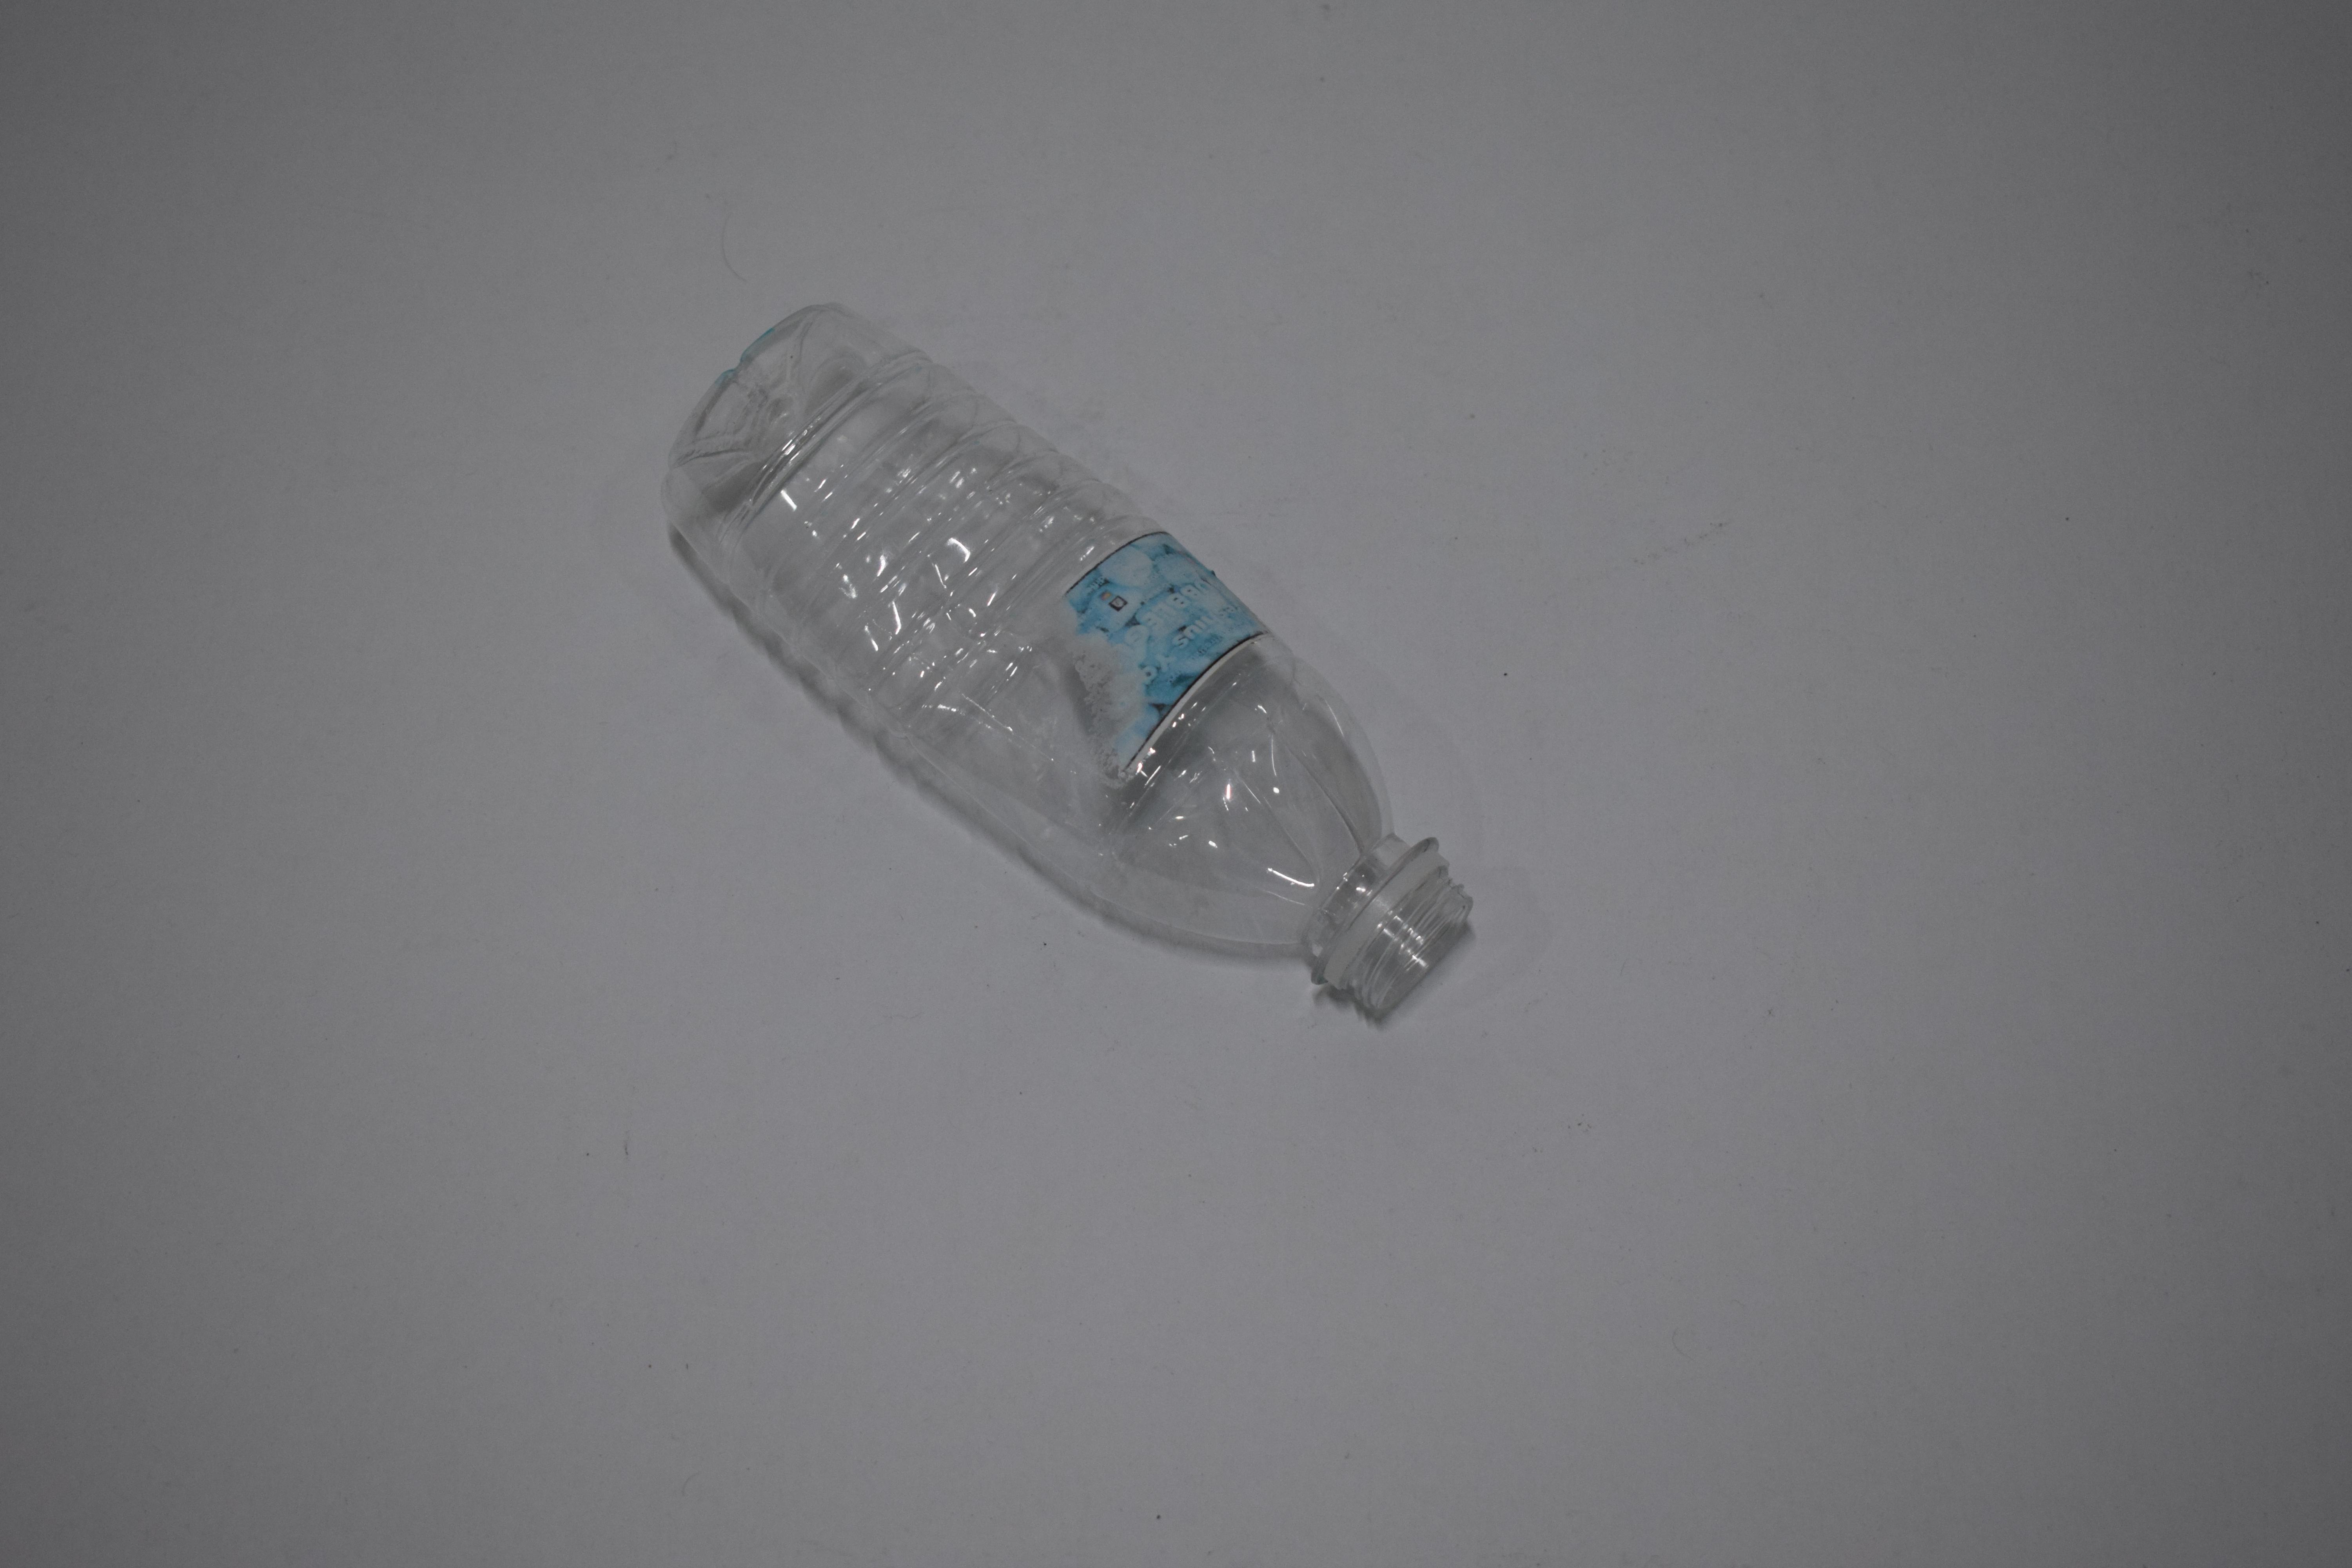bottle: (588, 290, 1297, 1027)
